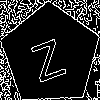Z: (25, 29, 68, 83)
